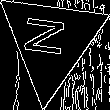N_E: (26, 19, 77, 64)
